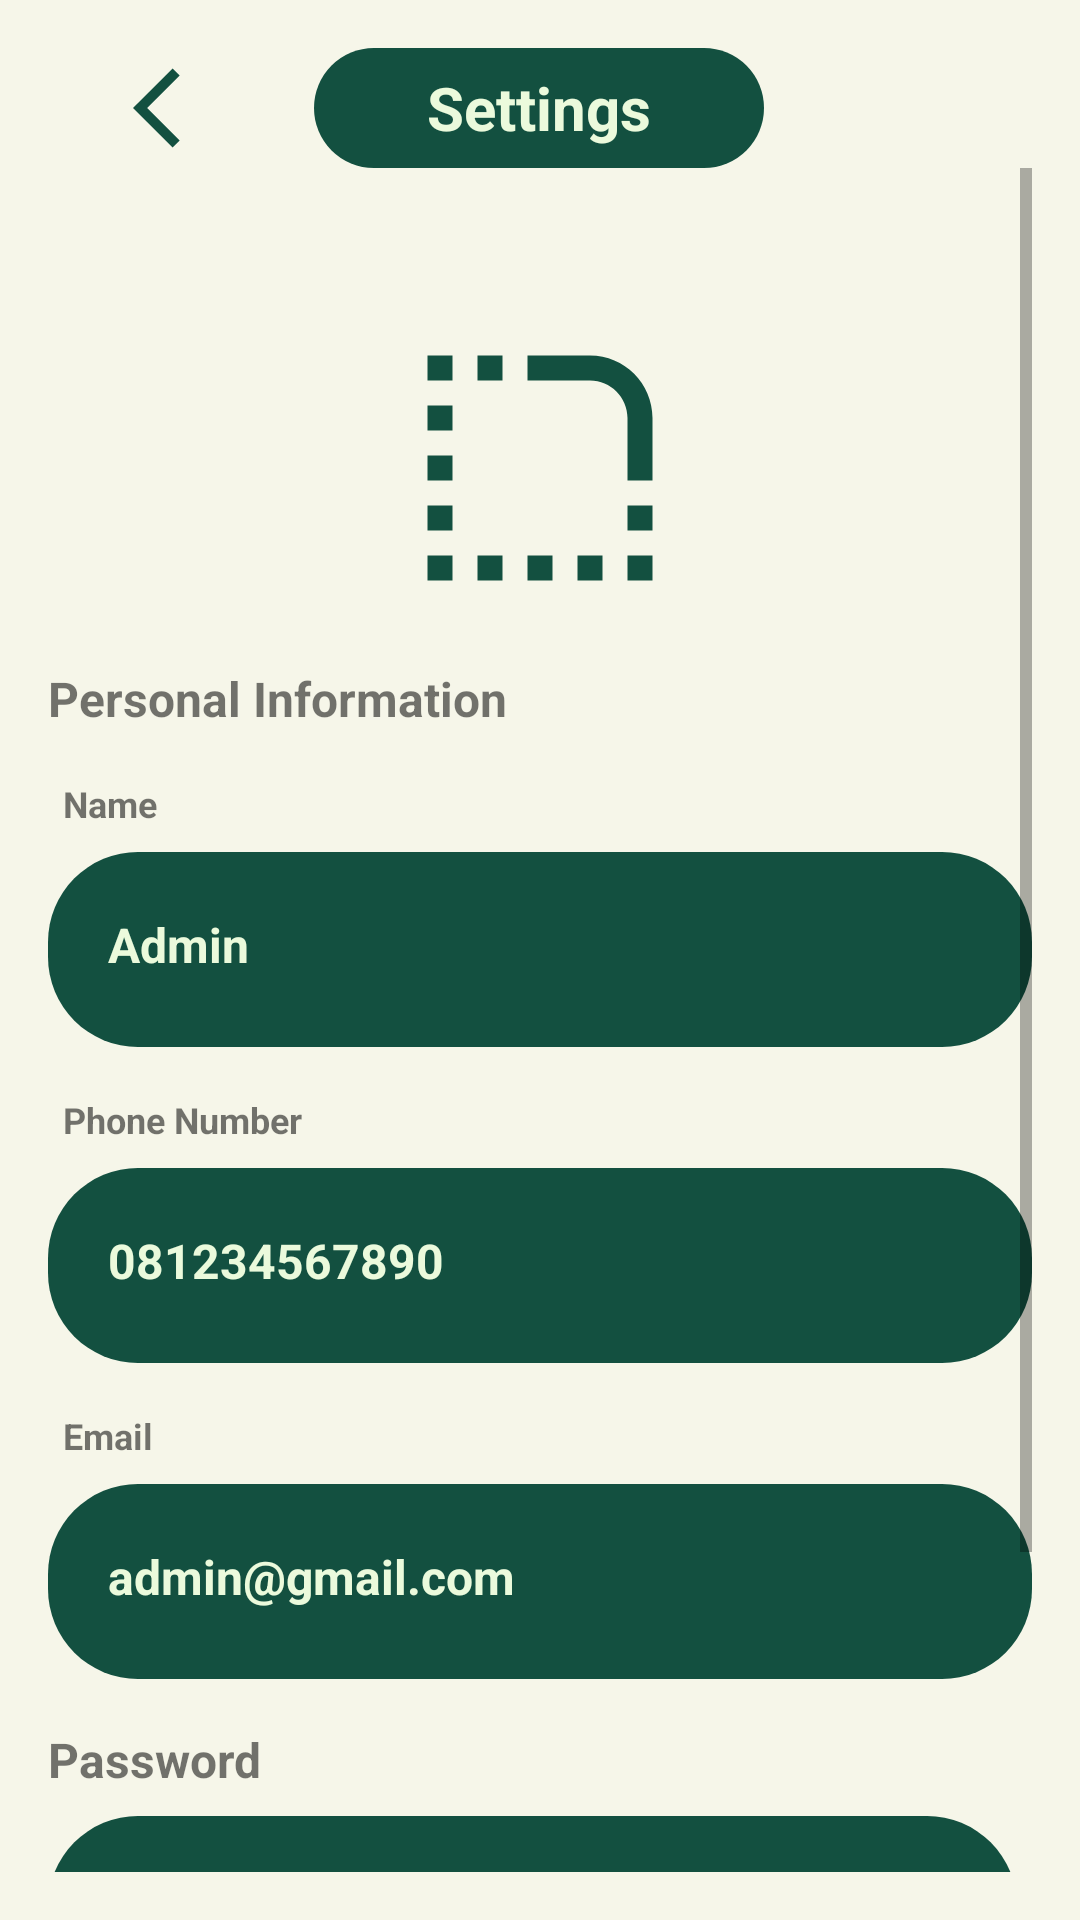

Icon click points for this 1080 × 1920 phone screenshot, format [x,y]:
corner: [540,468]
Left Icon: [156,108]
